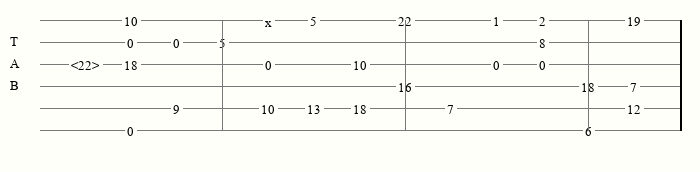0: (127, 124, 138, 137), (127, 36, 138, 49), (173, 36, 184, 49), (265, 58, 276, 71), (493, 58, 504, 71), (539, 58, 550, 71)
1: (493, 14, 504, 27)
10: (124, 14, 142, 27), (261, 102, 279, 115), (353, 58, 371, 71)
12: (627, 102, 645, 115)
13: (307, 102, 325, 115)
16: (398, 80, 416, 93)
18: (124, 58, 142, 71), (353, 102, 371, 115), (581, 80, 599, 93)
19: (627, 14, 645, 27)
2: (539, 14, 550, 27)
22: (398, 14, 416, 27)
5: (219, 36, 230, 49), (310, 14, 321, 27)
6: (585, 124, 596, 137)
7: (447, 102, 458, 115), (630, 80, 641, 93)
8: (539, 36, 550, 49)
9: (173, 102, 184, 115)
harmonic: (71, 58, 104, 71)
x: (265, 15, 276, 25)
